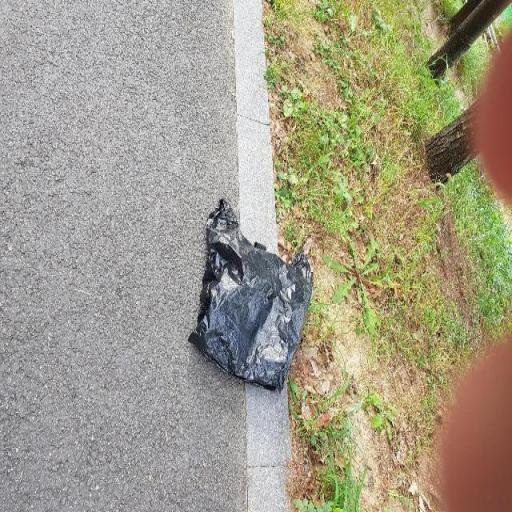plastic-bag: (189, 197, 312, 394)
